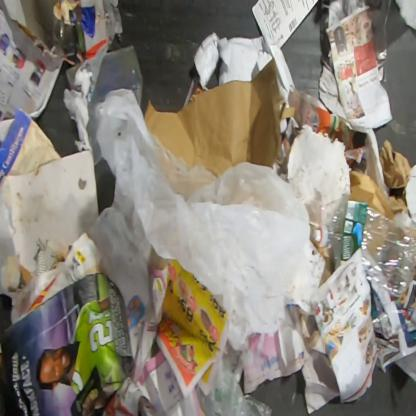cardboard: (145, 57, 296, 178)
rigid_plastic: (310, 194, 415, 299)
soft_plastic: (86, 88, 319, 352), (194, 357, 275, 415), (90, 45, 144, 109), (64, 62, 82, 90)
